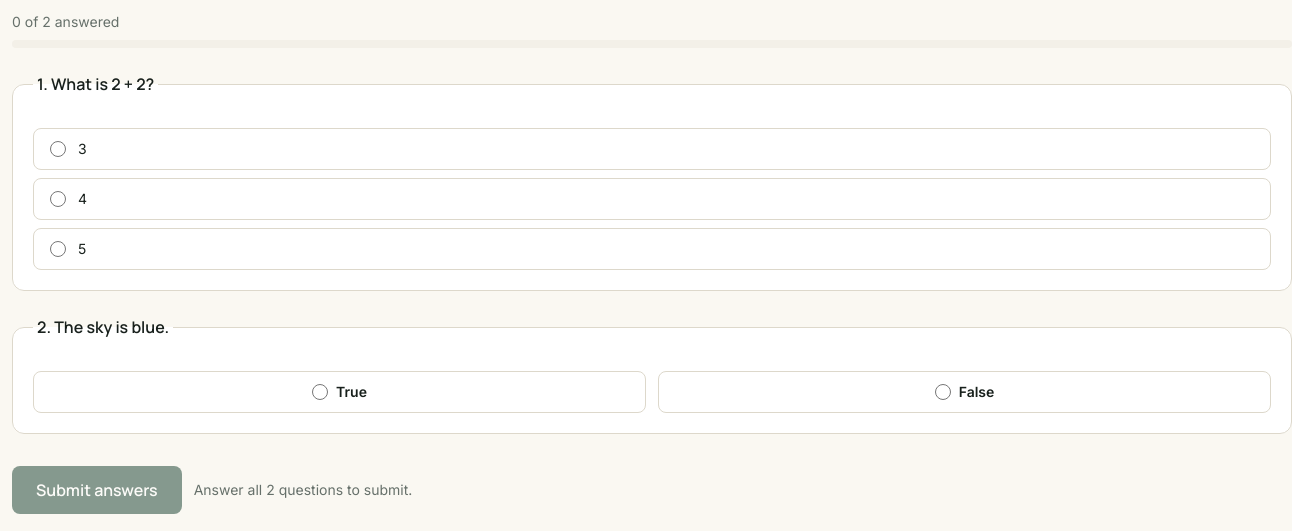
Test case: Quiz › retry resets answers and returns to the question view
The image size is (1292, 531).
Click the radio button labelled "4".
click(58, 199)  # box [50, 191, 66, 207]
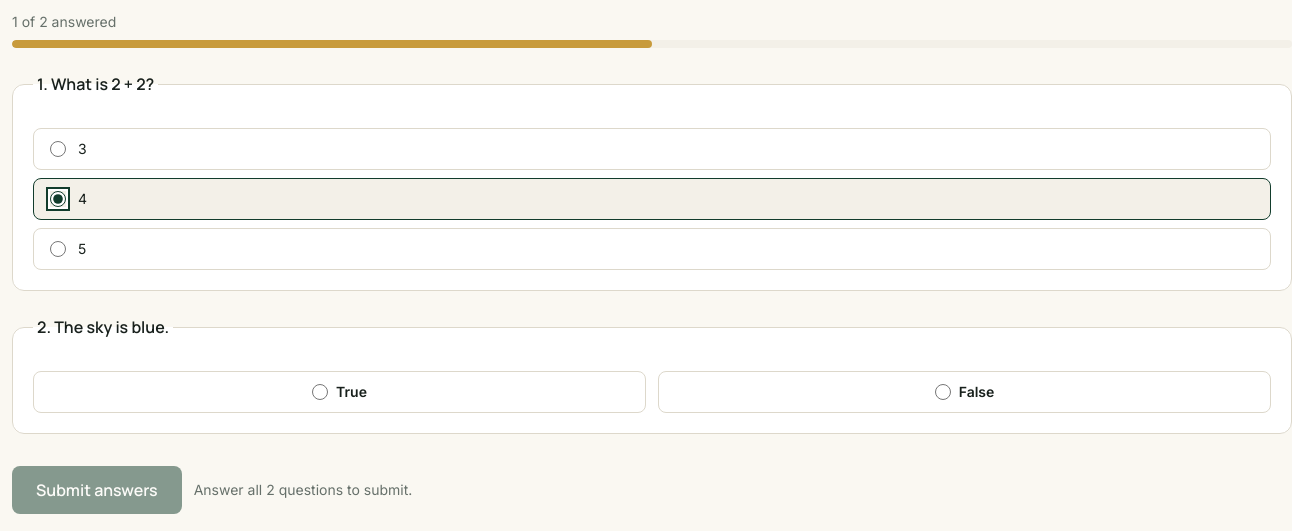
Click the radio button labelled "True".
click(320, 392)  # box [312, 384, 328, 400]
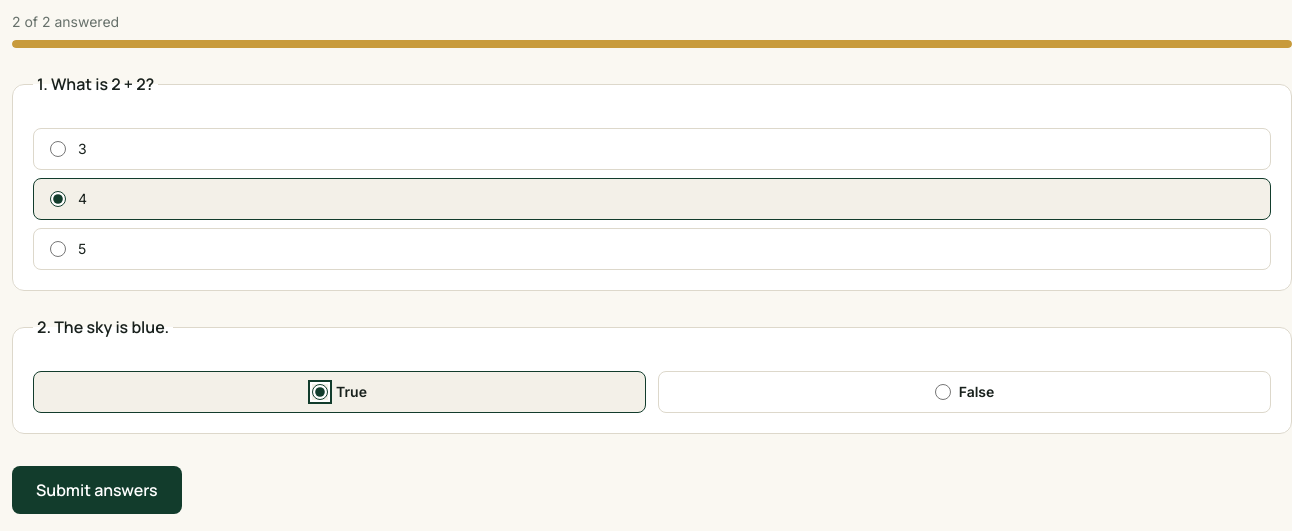
Click the button "Submit answers".
click(97, 490)  # box [12, 466, 182, 514]
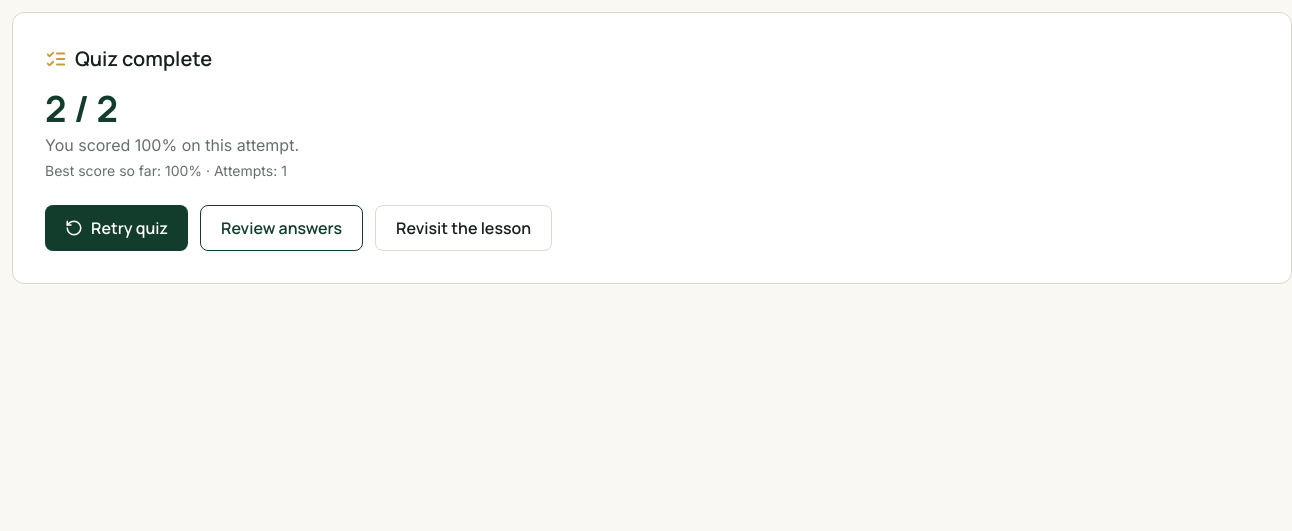
Now the heading "Quiz complete" is shown, box [75, 45, 212, 73]
Click the button "Retry quiz".
click(116, 228)  # box [45, 205, 188, 251]
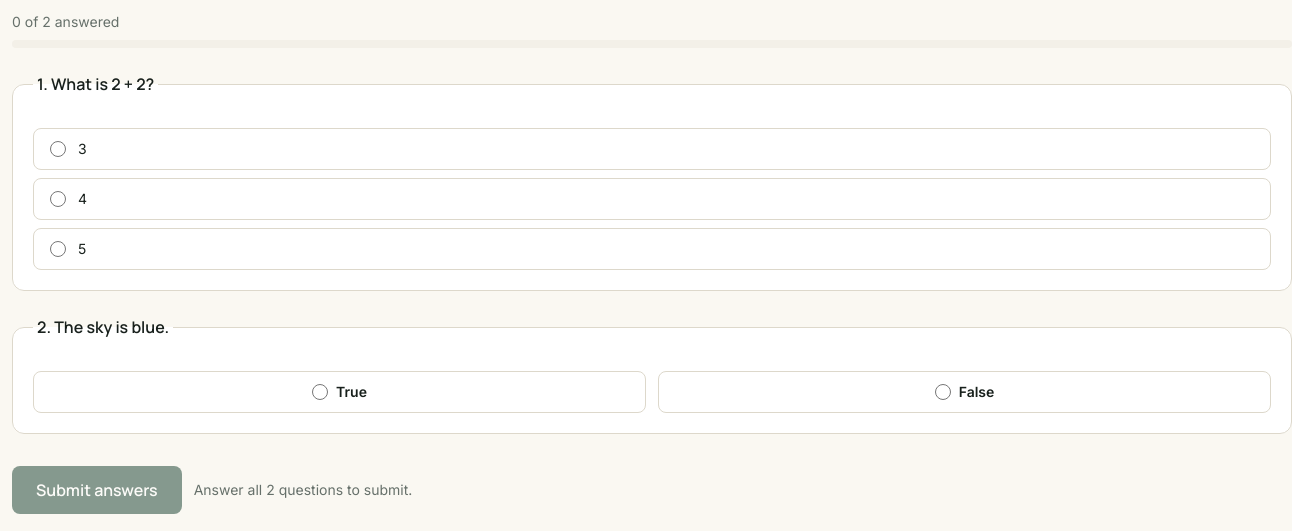
Now the heading "Quiz complete" is gone
Now the button "Submit answers" is disabled, box [12, 466, 182, 514]
